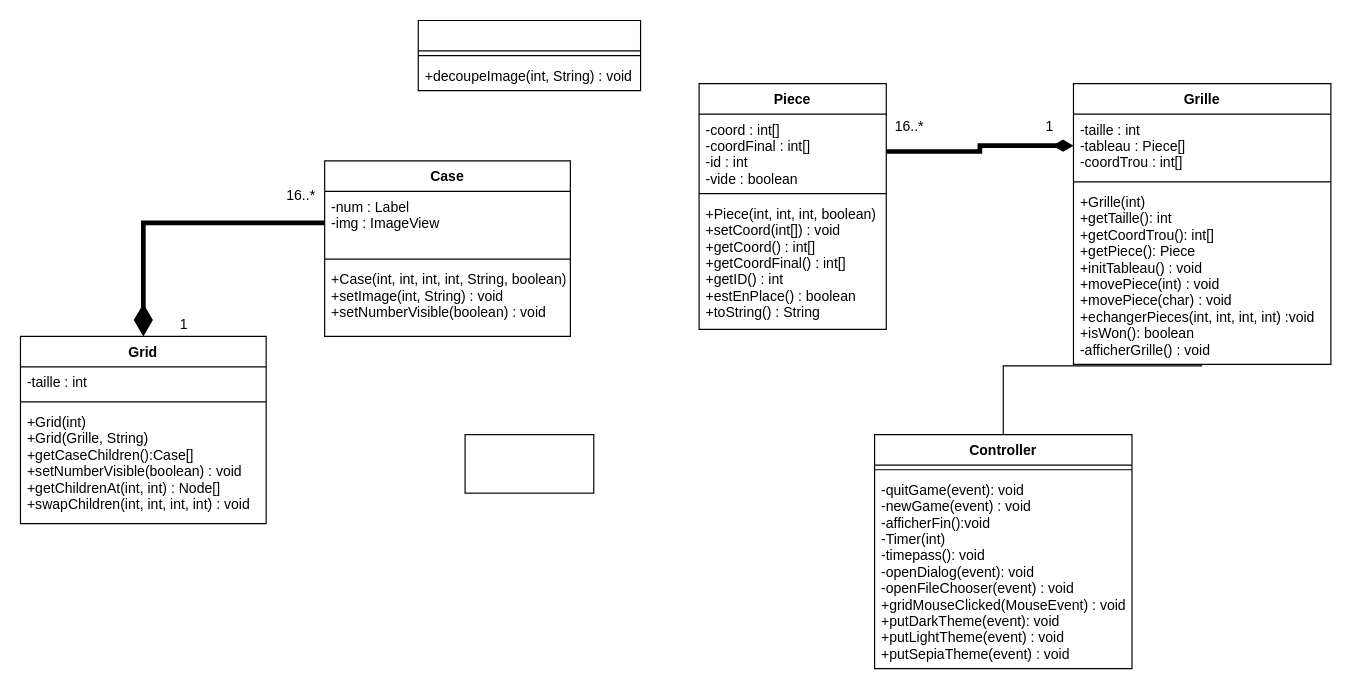
This 1351x693 diagram has some shape labels left out. The box of each missing label's shape, as (x1, y1, x2, y2) in pixels:
CutImage: (417, 19, 641, 91)
FXML: (464, 433, 594, 493)
